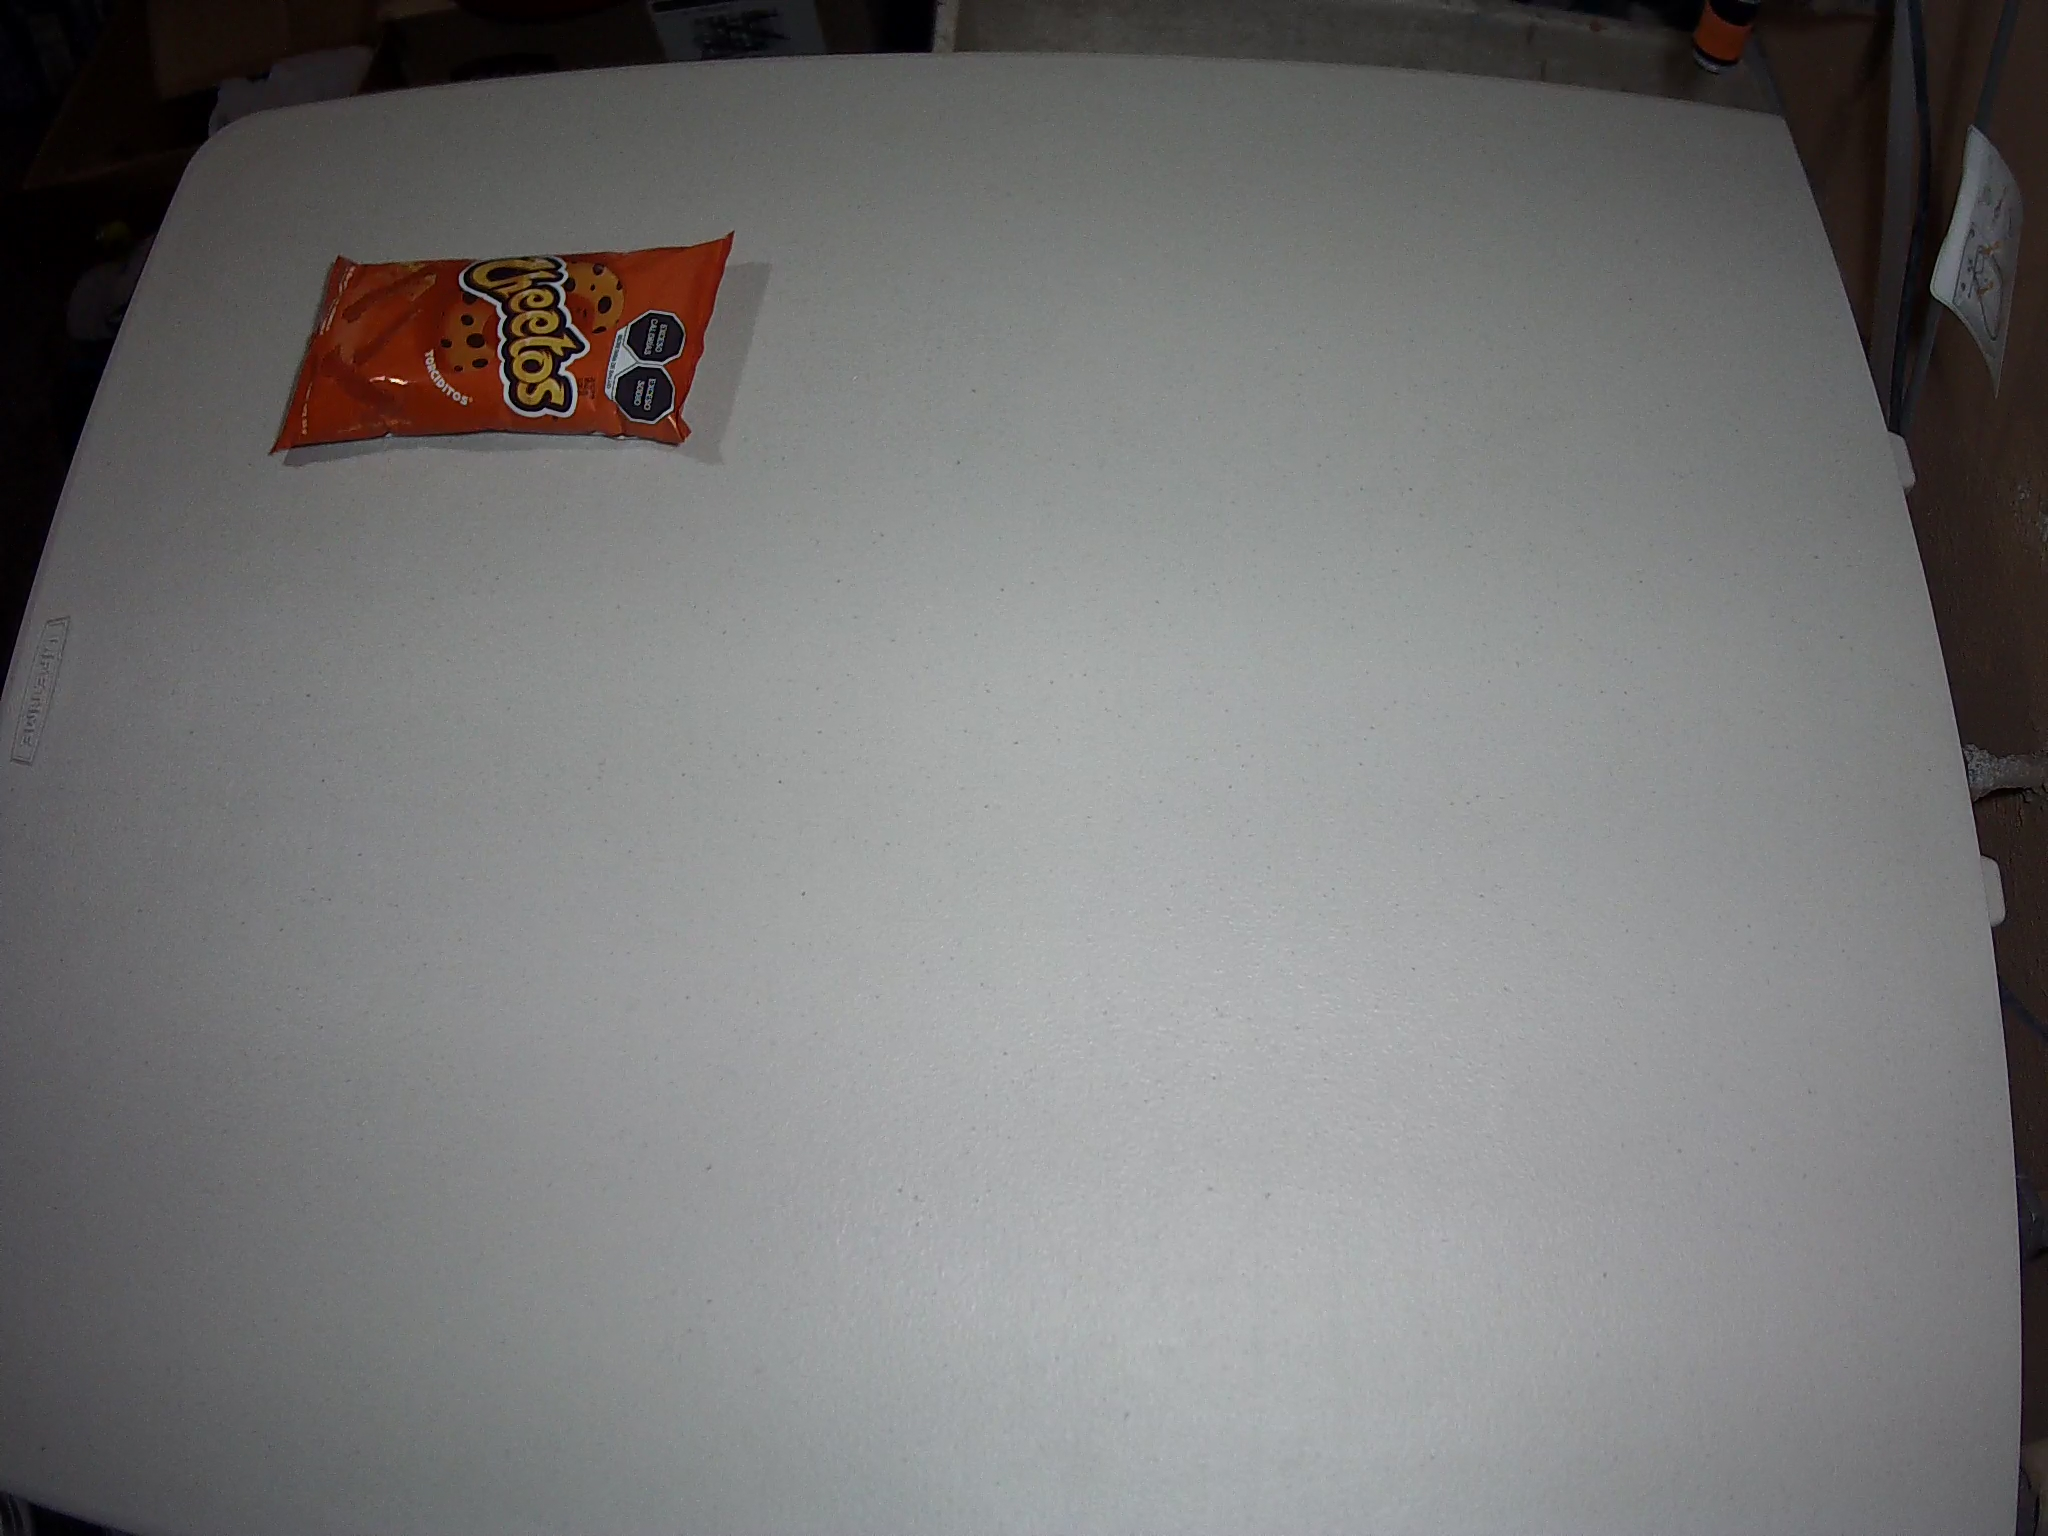CheetosTorciditos_55_F: (268, 232, 735, 455)
